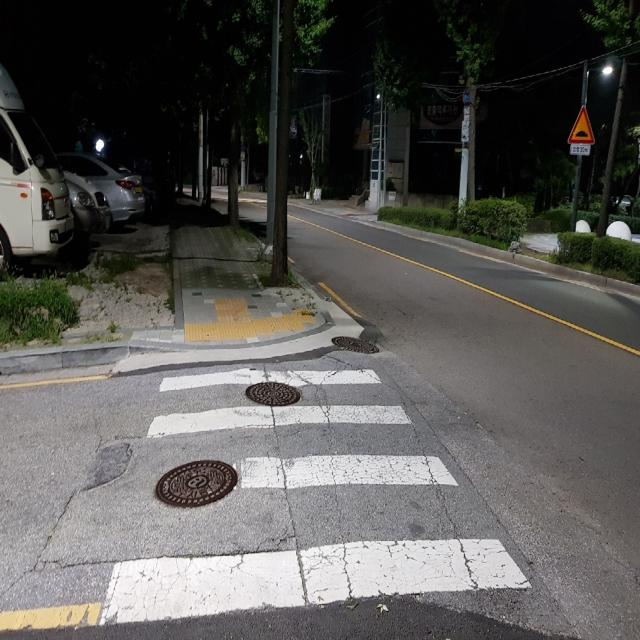횡단보도: (99, 367, 532, 625)
